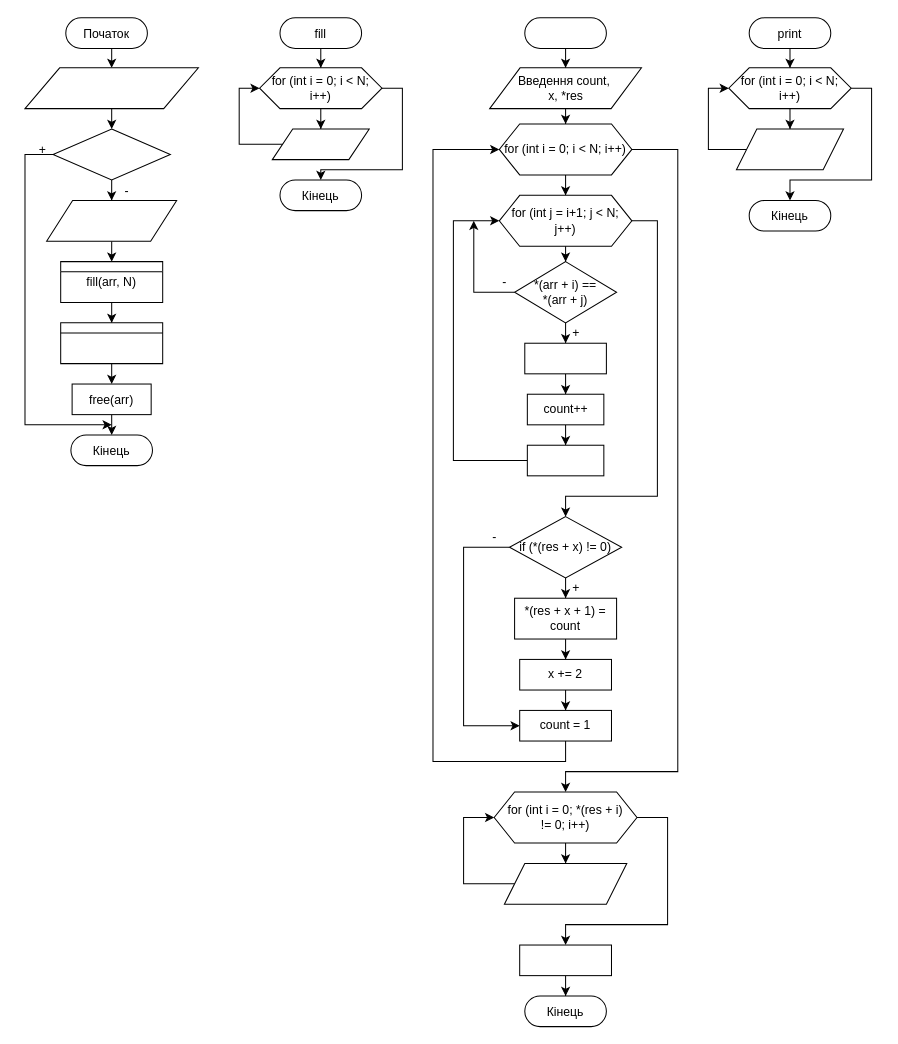
Image size: 898x1044. Some labels were removed from this diagram. Here are the shapes that lost their labels. From the top down, the centre of each, then its label:
At pixel 565 32: "repeat".
At pixel 111 88: "Введення surname, name, isEnterCh".
At pixel 111 154: "if (isEnter != 0)".
At pixel 320 144: "Введення (arr+i)".
At pixel 789 149: "Виведення *(arr + i)".
At pixel 111 220: "Введення N, *arr".
At pixel 111 343: "repeat(arr, N)".
At pixel 565 358: "*(res + x) = *(arr + j)".
At pixel 565 460: "*(arr + j) = 0".
At pixel 565 883: "Виведення *(res + i)".
At pixel 565 960: "free(res)".
